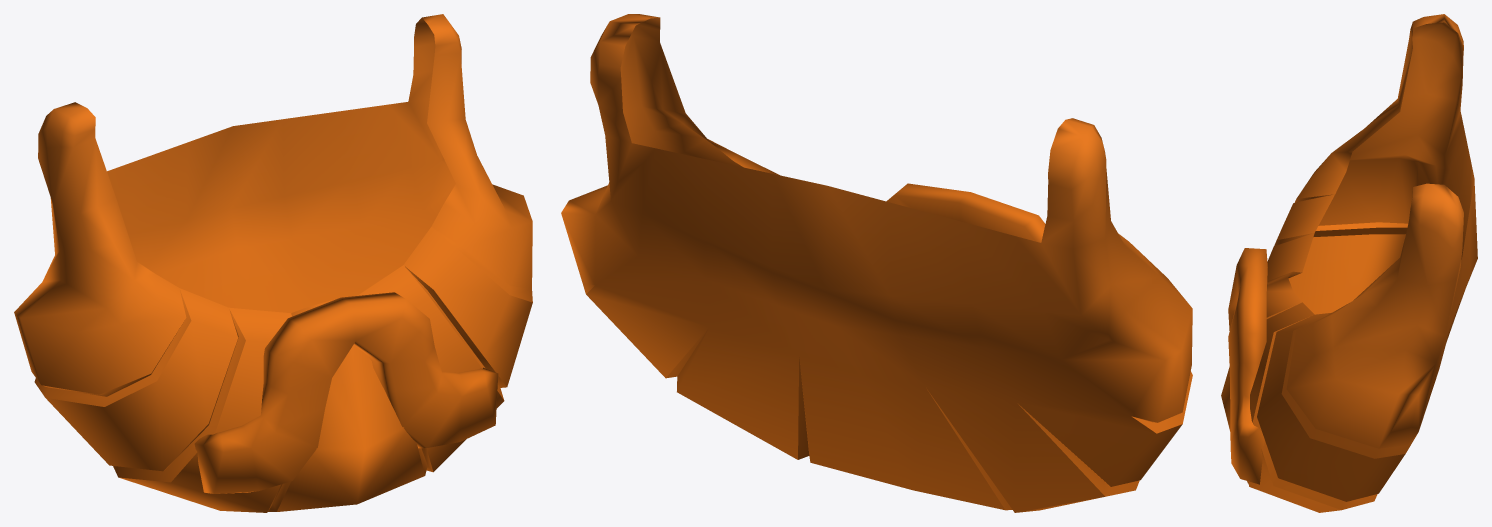
Rendered from Beard_Orange_17.fbx.
The picture shows the model from 3 angles, left to right: view 1: azimuth 30°, elevation 25°; view 2: azimuth 150°, elevation 25°; view 3: azimuth 270°, elevation 25°; orthographic projection. The views are drawn at different scales.
Parts seen in each view (by area): view 1: Beard_Orange_17; view 2: Beard_Orange_17; view 3: Beard_Orange_17.
Boxes of the visible parts, <box> form: Beard_Orange_17: <box>14,14,532,512</box>; Beard_Orange_17: <box>561,14,1192,512</box>; Beard_Orange_17: <box>1221,14,1477,512</box>.
Size of the model in its own units: 64.08 by 47.7 by 29.49.
